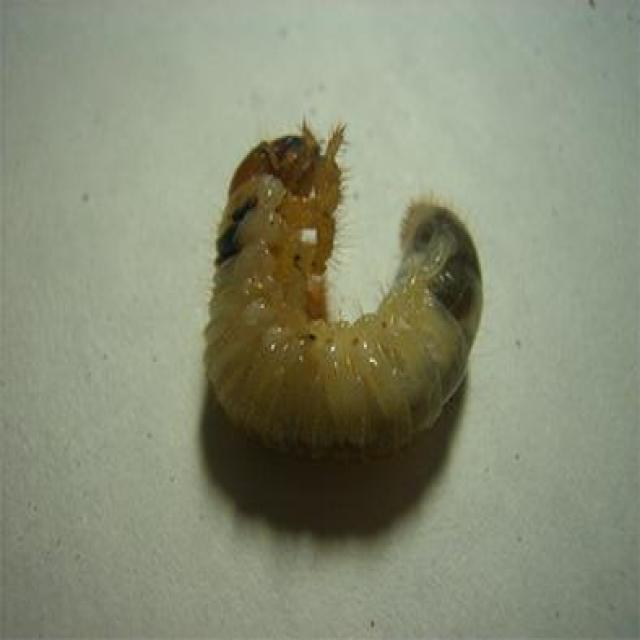Grub-Adult-: (209, 118, 501, 459)
